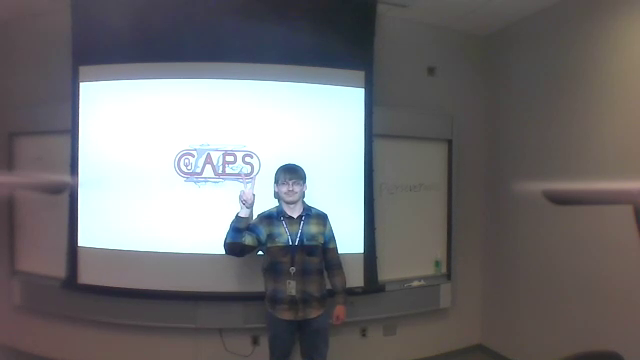peace: (232, 171, 262, 211)
